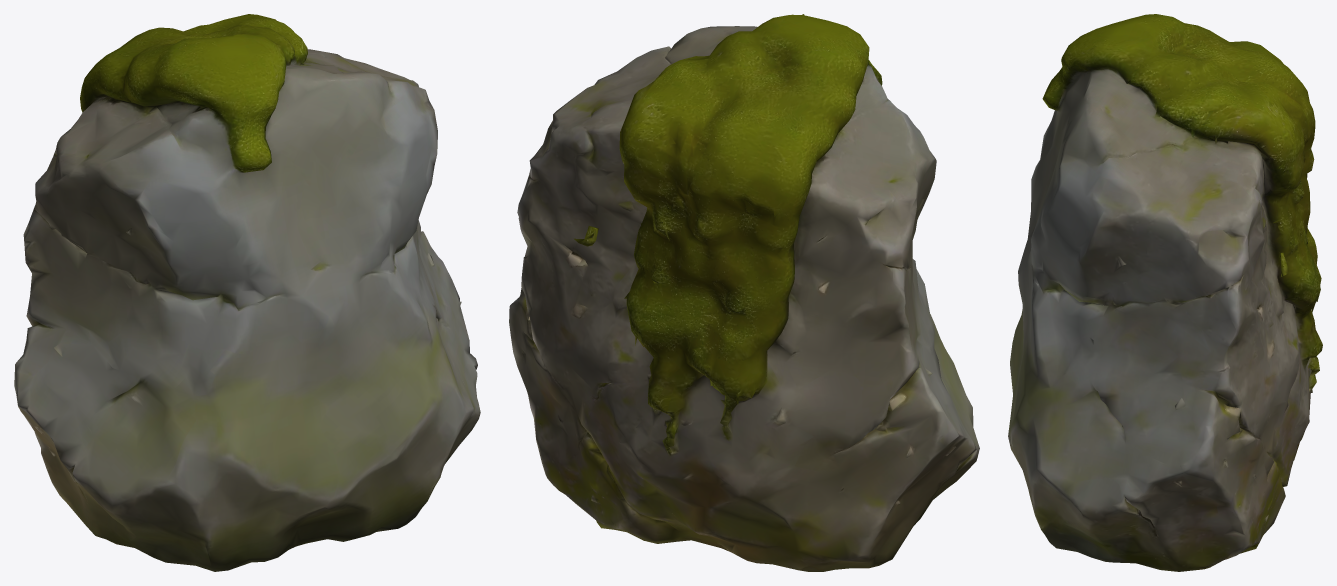
File: rock_1.glb
The picture shows the model from 3 angles, left to right: view 1: azimuth 30°, elevation 25°; view 2: azimuth 150°, elevation 25°; view 3: azimuth 270°, elevation 25°; orthographic projection. The views are drawn at different scales.
Parts seen in each view (by area): view 1: tripo_node_19bdcf96-e164-41eb-8171-ea95dbb98c4d; view 2: tripo_node_19bdcf96-e164-41eb-8171-ea95dbb98c4d; view 3: tripo_node_19bdcf96-e164-41eb-8171-ea95dbb98c4d.
Boxes of the visible parts, x1,y1,x2,y2 form: tripo_node_19bdcf96-e164-41eb-8171-ea95dbb98c4d: (14, 14, 480, 571); tripo_node_19bdcf96-e164-41eb-8171-ea95dbb98c4d: (509, 14, 979, 571); tripo_node_19bdcf96-e164-41eb-8171-ea95dbb98c4d: (1008, 14, 1322, 571).
Size of the model in its own units: 2.18 by 2.3 by 1.42.
1 material, 1 textured.
